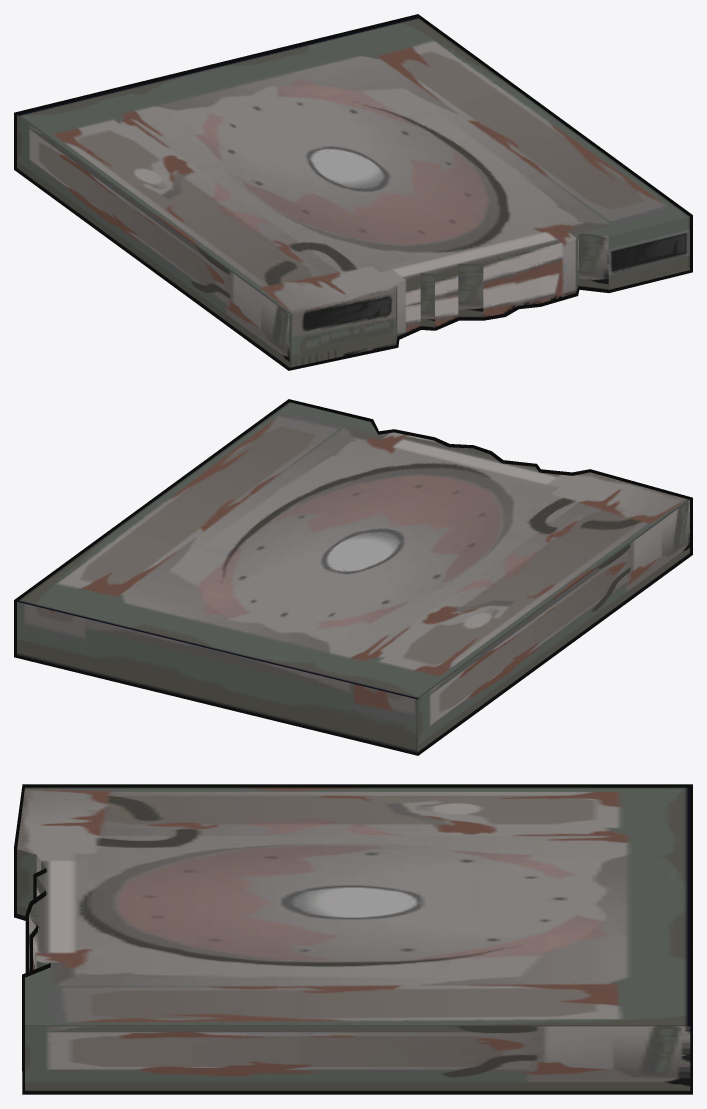
Rendered from Building_AncientLargeMechGestator_Things_Building_Ruins_AncientLargeMechGestator.glb.
3 renders of one model, top to bottom at view 1: azimuth 30°, elevation 25°; view 2: azimuth 150°, elevation 25°; view 3: azimuth 270°, elevation 25°, orthographic. The views are drawn at different scales.
Parts seen in each view (by area): view 1: Body, Outline; view 2: Body, Outline; view 3: Body, Outline.
Boxes of the visible parts, bbox=[...] form: Body: bbox=[17, 17, 689, 367]; Outline: bbox=[14, 14, 692, 370]; Body: bbox=[17, 402, 689, 752]; Outline: bbox=[14, 399, 692, 755]; Body: bbox=[17, 787, 690, 1091]; Outline: bbox=[14, 784, 692, 1094].
Bounding box in the file's own units: 2.02 × 0.2833 × 2.41.
2 materials, 1 textured.
